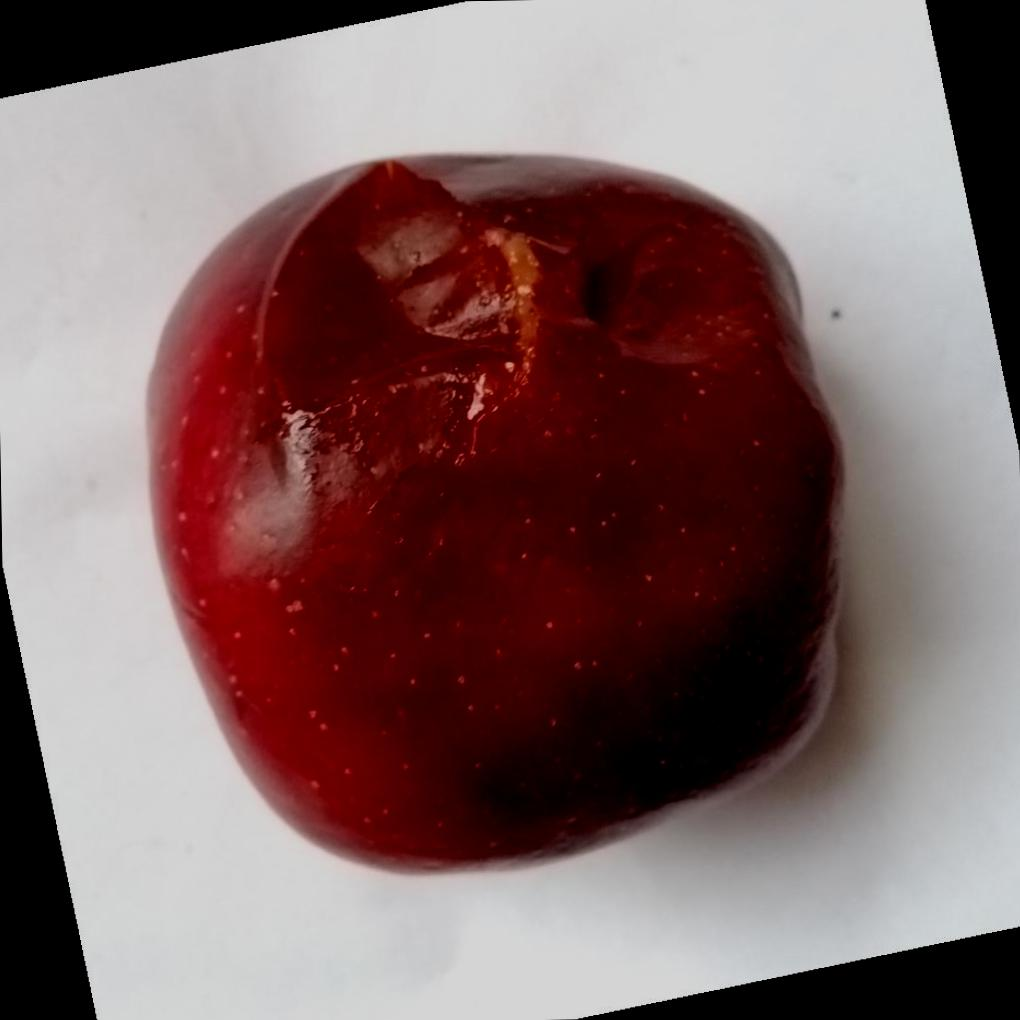FreshOrange: (141, 149, 842, 878)
